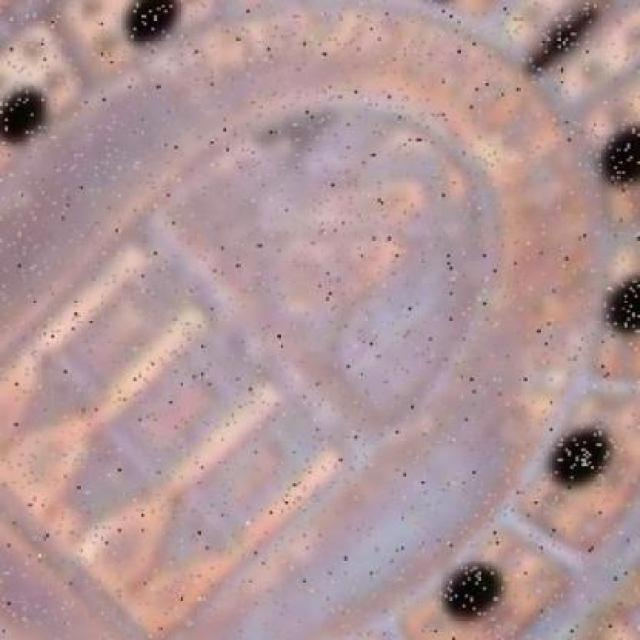Manhole: (2, 0, 635, 638)
